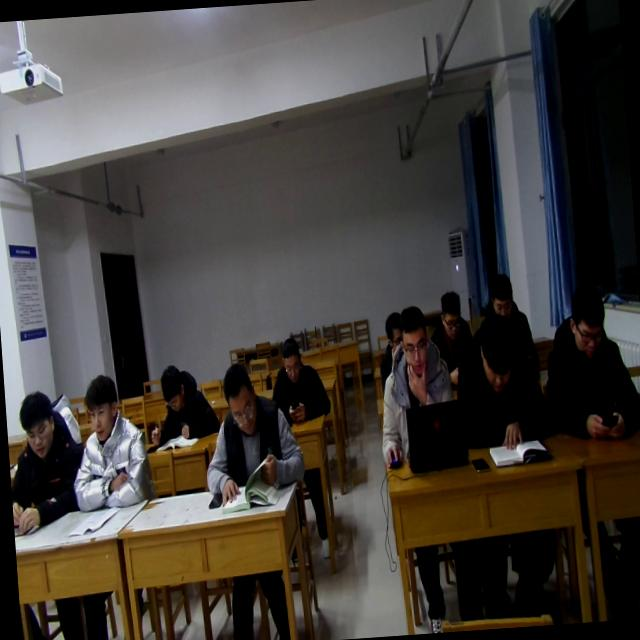down: (564, 282, 612, 368), (474, 312, 521, 398), (15, 385, 60, 459), (220, 363, 262, 434), (396, 301, 433, 378), (158, 360, 188, 420), (436, 288, 466, 342), (489, 274, 518, 318), (277, 336, 303, 380), (382, 312, 405, 350)
lookup: (80, 368, 120, 438)
sit: (198, 360, 310, 507), (537, 286, 640, 443), (373, 304, 461, 470), (449, 314, 546, 455), (65, 372, 152, 512), (5, 387, 83, 540), (146, 356, 221, 444), (268, 337, 333, 427), (428, 288, 476, 390), (477, 270, 536, 343), (374, 310, 411, 396)
